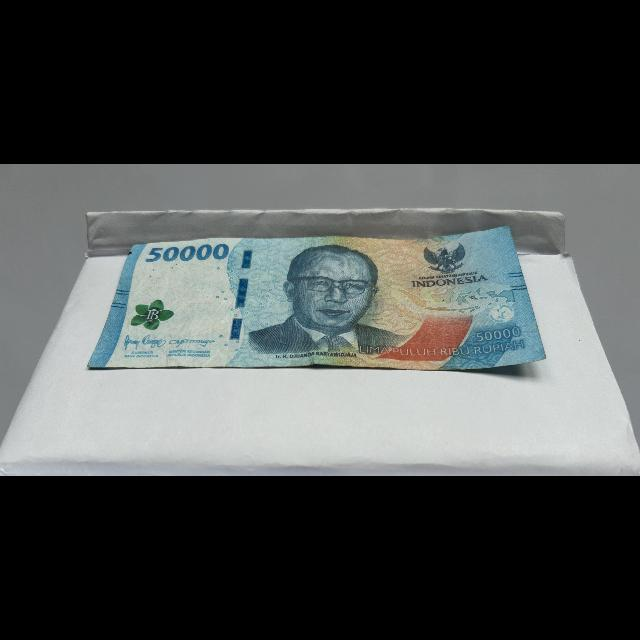Palsu-50k: (83, 223, 553, 375)
Tinta-Palsu-50k: (128, 297, 178, 333)
